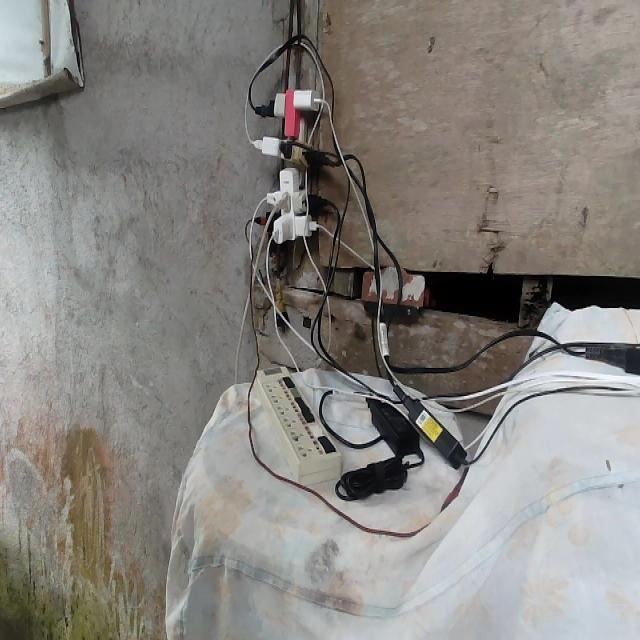-: (248, 88, 331, 245)
